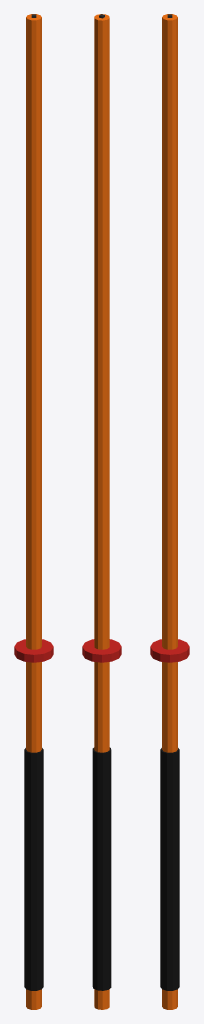
File: ENV_InsulatedPole.fbx
3 views of the same model, side by side, from view 1: azimuth 90°, elevation 25°; view 2: azimuth 150°, elevation 25°; view 3: azimuth 270°, elevation 25° (orthographic).
Parts seen in each view (by area): view 1: ENV_InsulatedPole, Grip, GuardRing; view 2: ENV_InsulatedPole, Grip, GuardRing; view 3: ENV_InsulatedPole, Grip, GuardRing.
Boxes of the visible parts, box(x1,y1,x2,y2) form: ENV_InsulatedPole: box(26, 14, 41, 1009); Grip: box(24, 748, 43, 990); GuardRing: box(14, 639, 53, 662); ENV_InsulatedPole: box(94, 14, 109, 1009); Grip: box(92, 747, 111, 990); GuardRing: box(82, 639, 121, 662); ENV_InsulatedPole: box(162, 14, 177, 1009); Grip: box(160, 748, 179, 990); GuardRing: box(150, 639, 189, 662).
Bounding box in the file's own units: 0.09 × 2.51 × 0.09.
3 materials, 3 textured.
